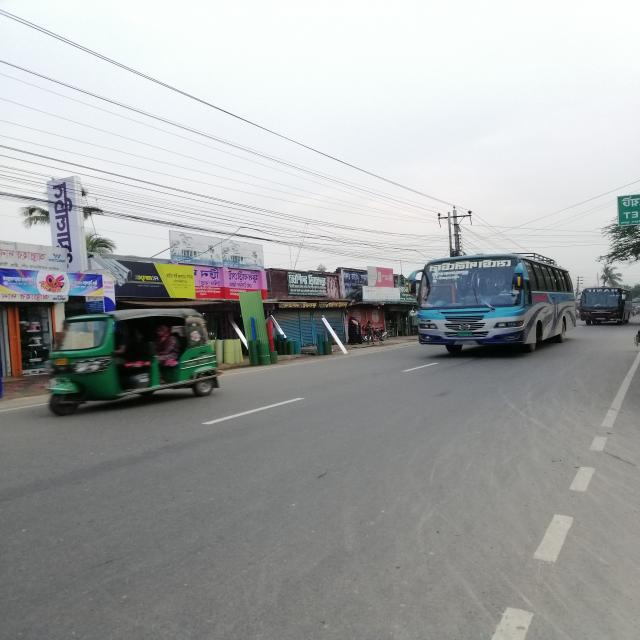Bus: (389, 254, 578, 359)
CNG: (40, 304, 225, 415)
